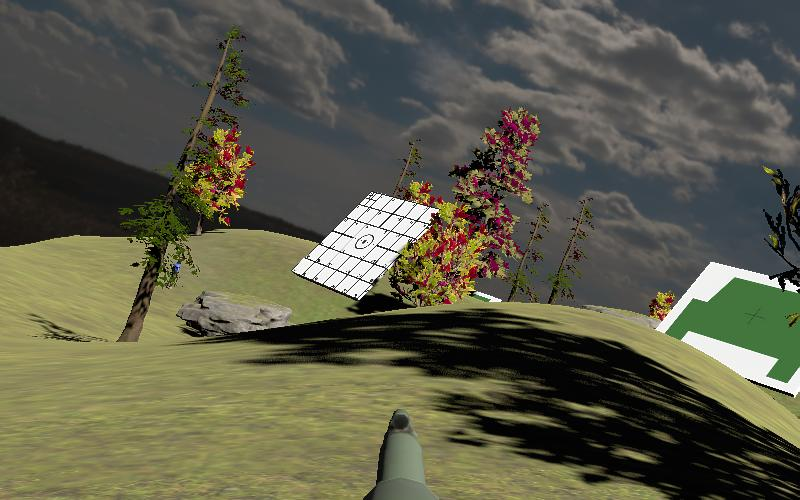Human: (168, 257, 184, 287)
